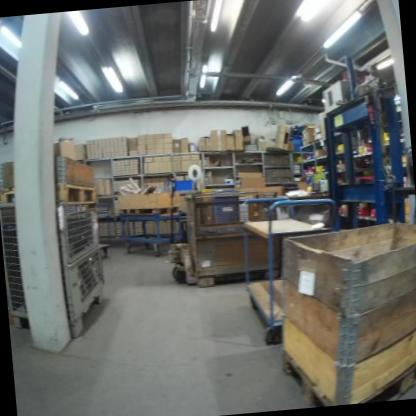pallet: (277, 338, 416, 410), (0, 178, 98, 215)
pallet_truck: (153, 168, 197, 286)
stillage: (180, 183, 291, 282), (60, 242, 113, 336), (1, 209, 35, 327), (55, 204, 105, 264)
